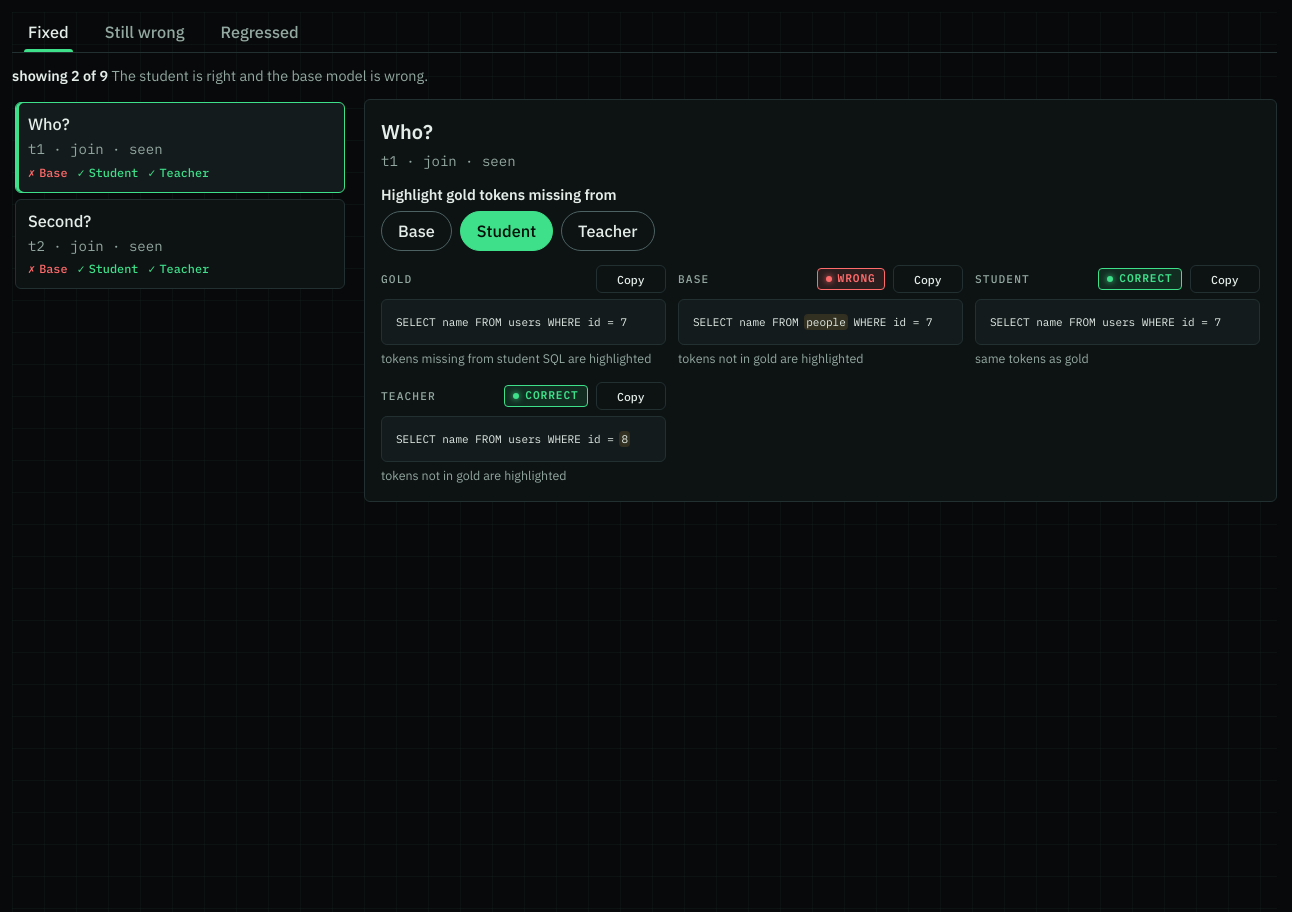
Test case: ExampleBrowser: master list and side-by-side › opens the first example, switches between examples, and can collapse
The image size is (1292, 912).
expect the number of elements with class "exd" is 1: met, box [364,99,1277,502]
Click the button "Second? t2 · join · seen ✗ Base ✓ Student ✓ Teacher": (60, 220) [15,199,345,289]
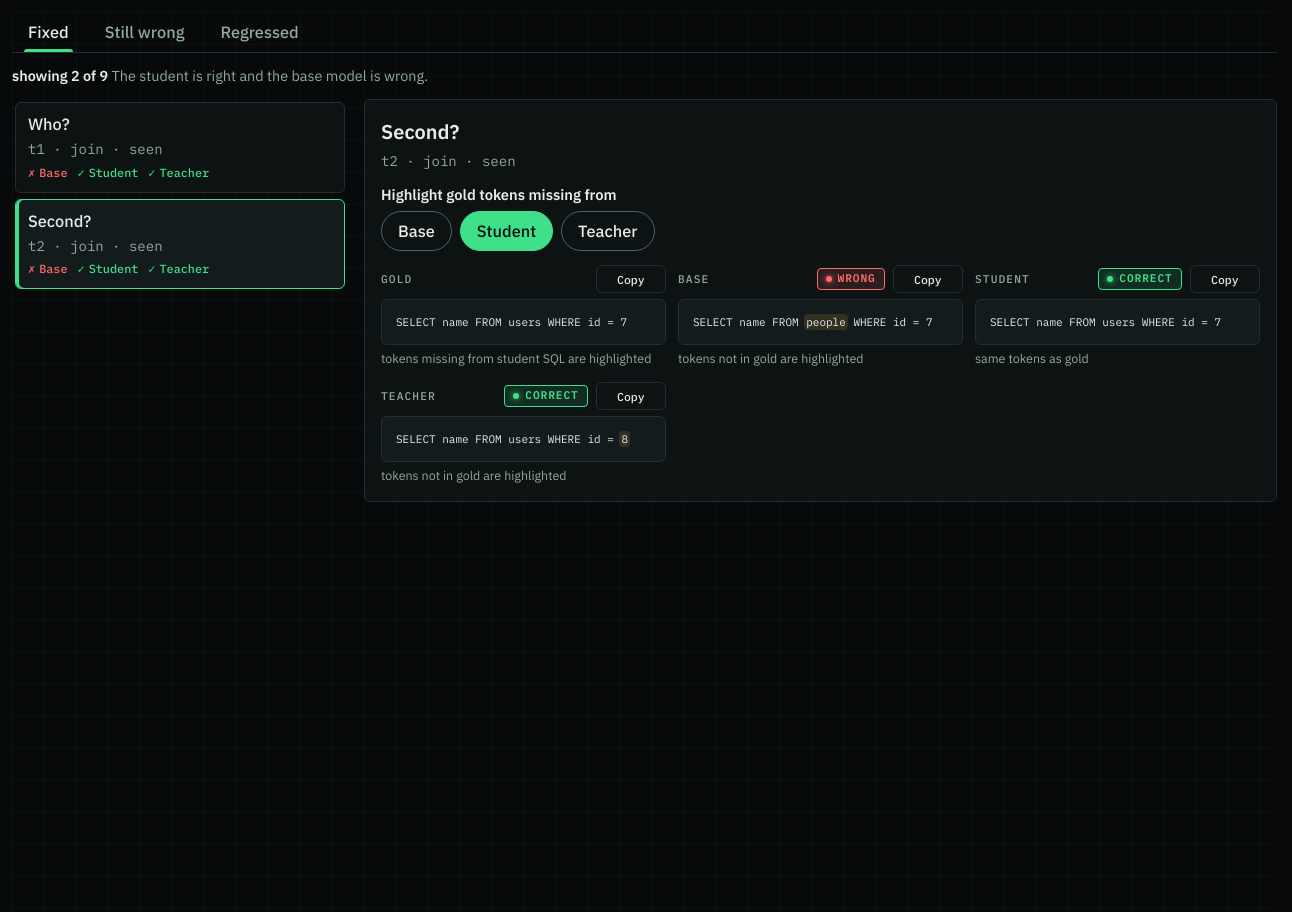
expect the button "Who? t1 · join · seen ✗ Base ✓ Student ✓ Teacher" is collapsed: met, box [15,102,345,193]
expect the button "Second? t2 · join · seen ✗ Base ✓ Student ✓ Teacher" is expanded: met
expect the element with class "exd" shows "Second?": met, box [381,118,459,145]
Click the button "Second? t2 · join · seen ✗ Base ✓ Student ✓ Teacher": (60, 220) [15,199,345,289]
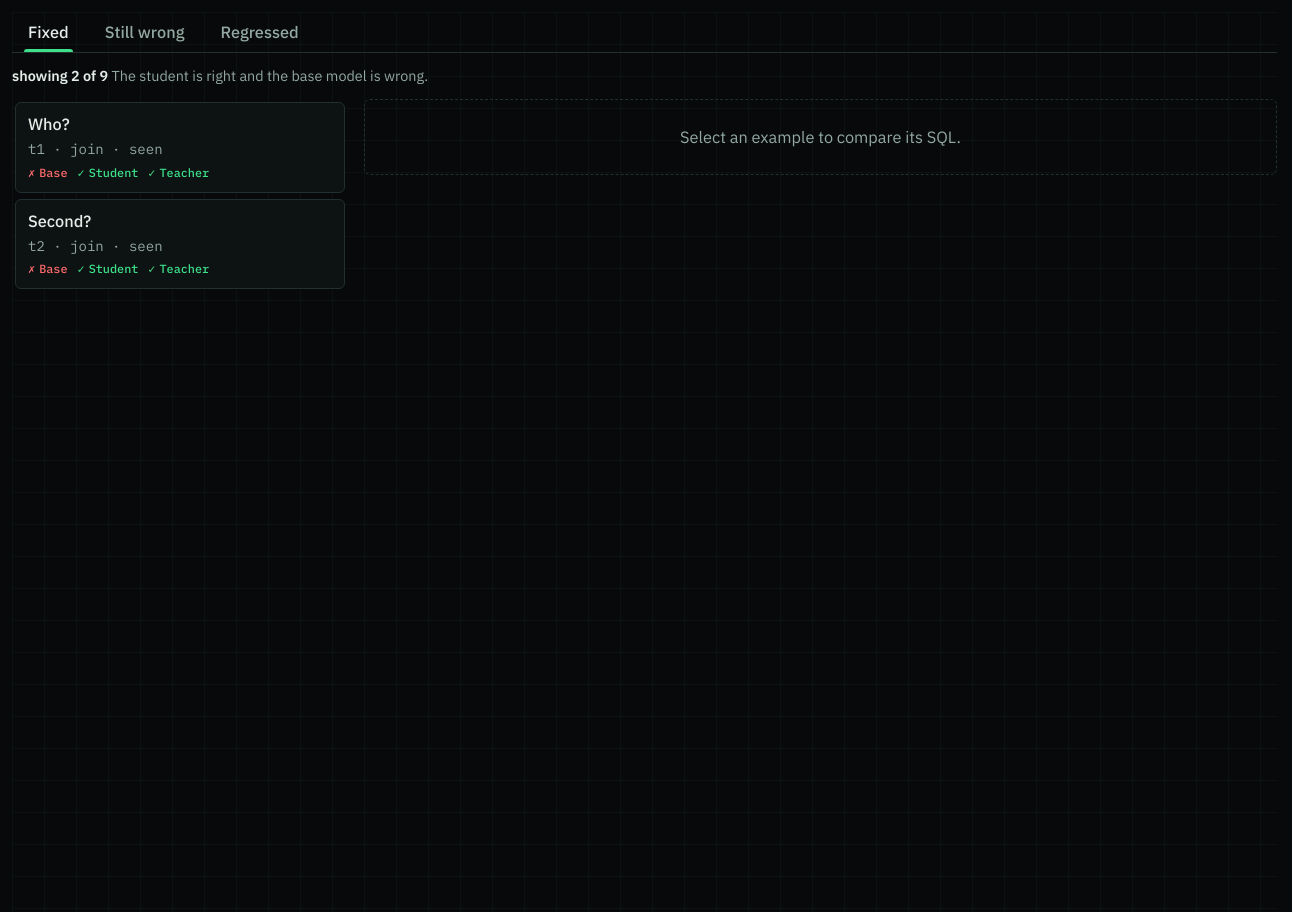
expect no elements with class "exd" are shown: met
